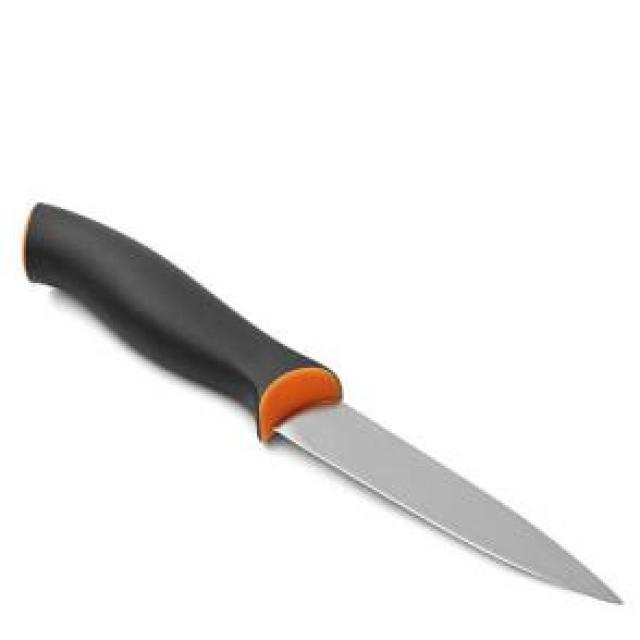knife: (22, 189, 626, 615)
